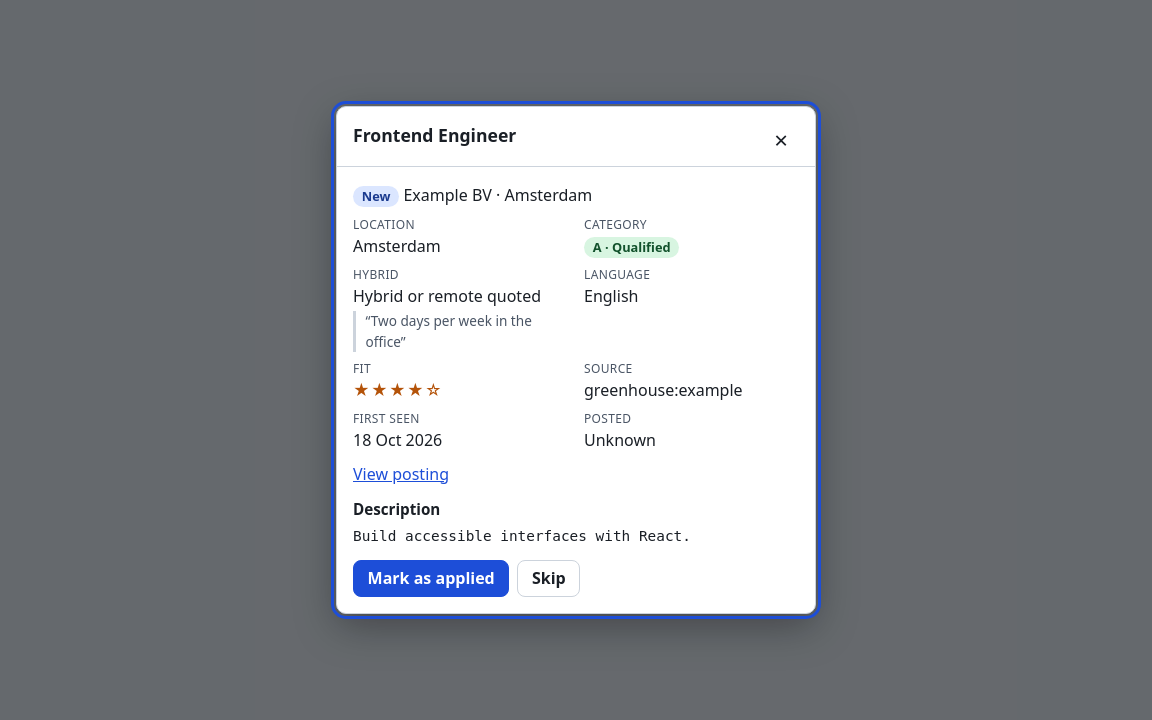
JobDetailDialog › can cancel the nested apply dialog
Click the button "Mark as applied" at coordinates (431, 578), box [353, 560, 509, 597]
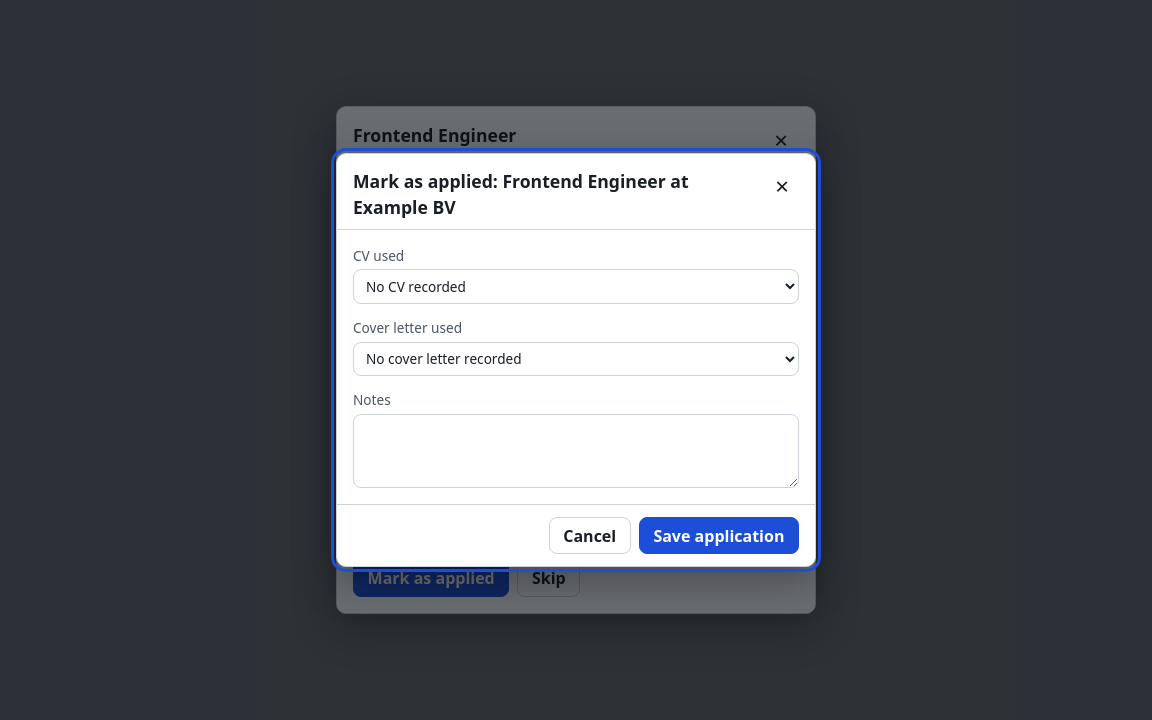
Click the button "Cancel" at coordinates (590, 536), box [549, 517, 631, 554]
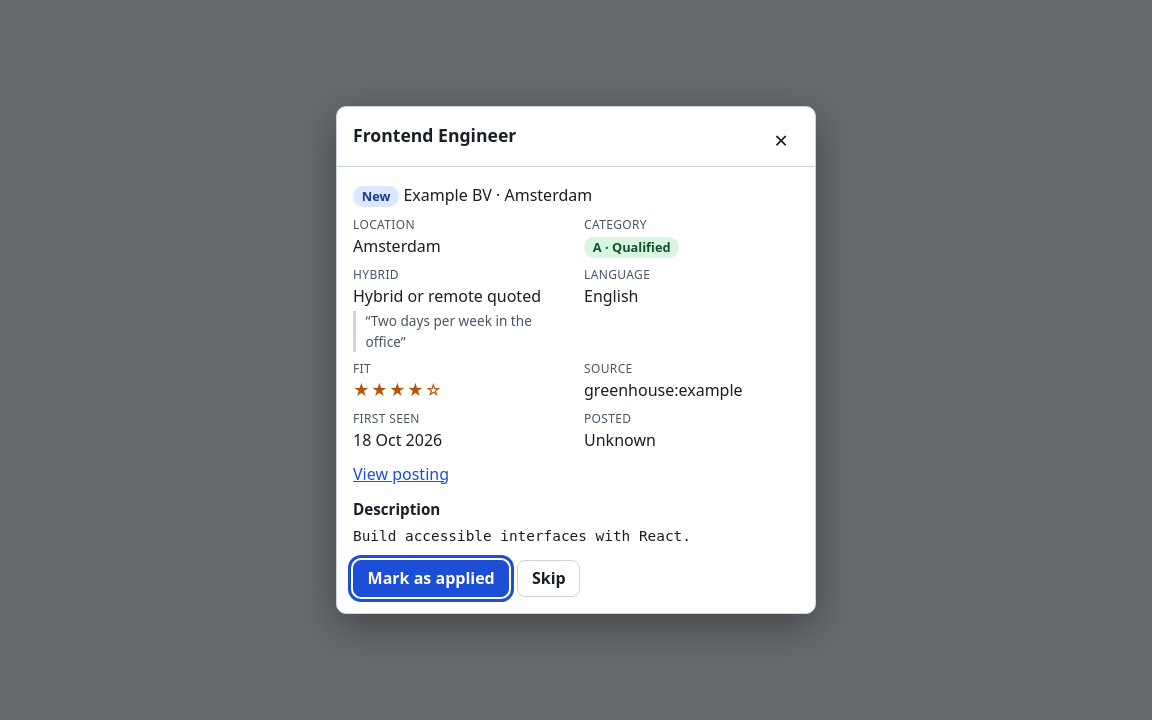
Expected: the number of dialogs is 1, [336, 106, 816, 614]
